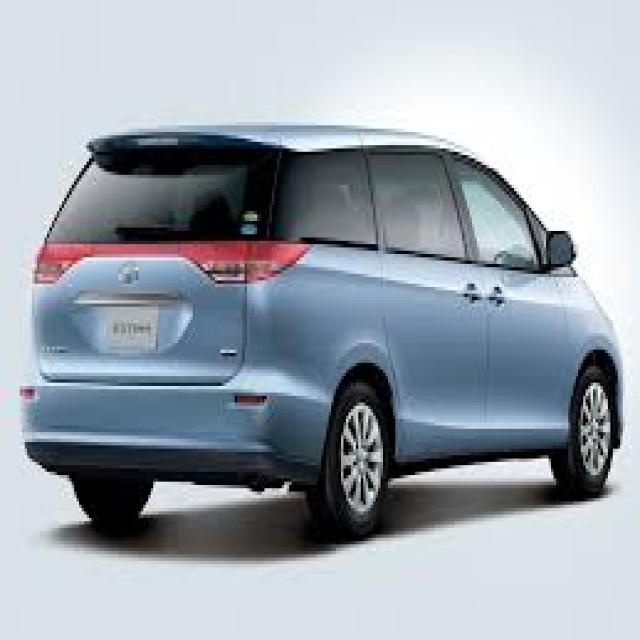Van: (27, 122, 628, 541)
